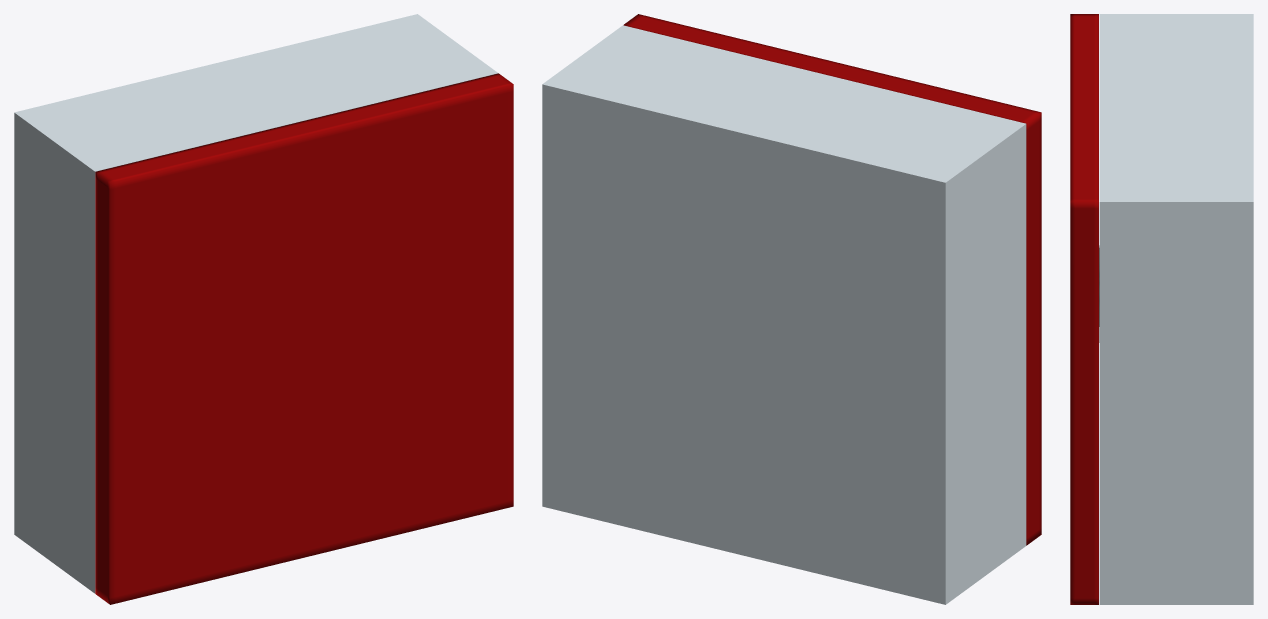
The model's file is Spring.fbx.
3 renders of one model, left to right at view 1: azimuth 30°, elevation 25°; view 2: azimuth 150°, elevation 25°; view 3: azimuth 270°, elevation 25°, orthographic. The views are drawn at different scales.
Parts seen in each view (by area): view 1: SpringPlatTop, SpringPlatBot; view 2: SpringPlatBot, SpringPlatTop; view 3: SpringPlatBot, SpringPlatTop.
Boxes of the visible parts, x1,y1,x2,y2 form: SpringPlatTop: (95, 73, 513, 604); SpringPlatBot: (14, 14, 498, 593); SpringPlatBot: (542, 25, 1026, 604); SpringPlatTop: (623, 14, 1041, 545); SpringPlatBot: (1099, 14, 1253, 604); SpringPlatTop: (1070, 14, 1098, 604).
Size of the model in its own units: 1.67 by 1.67 by 0.689.
